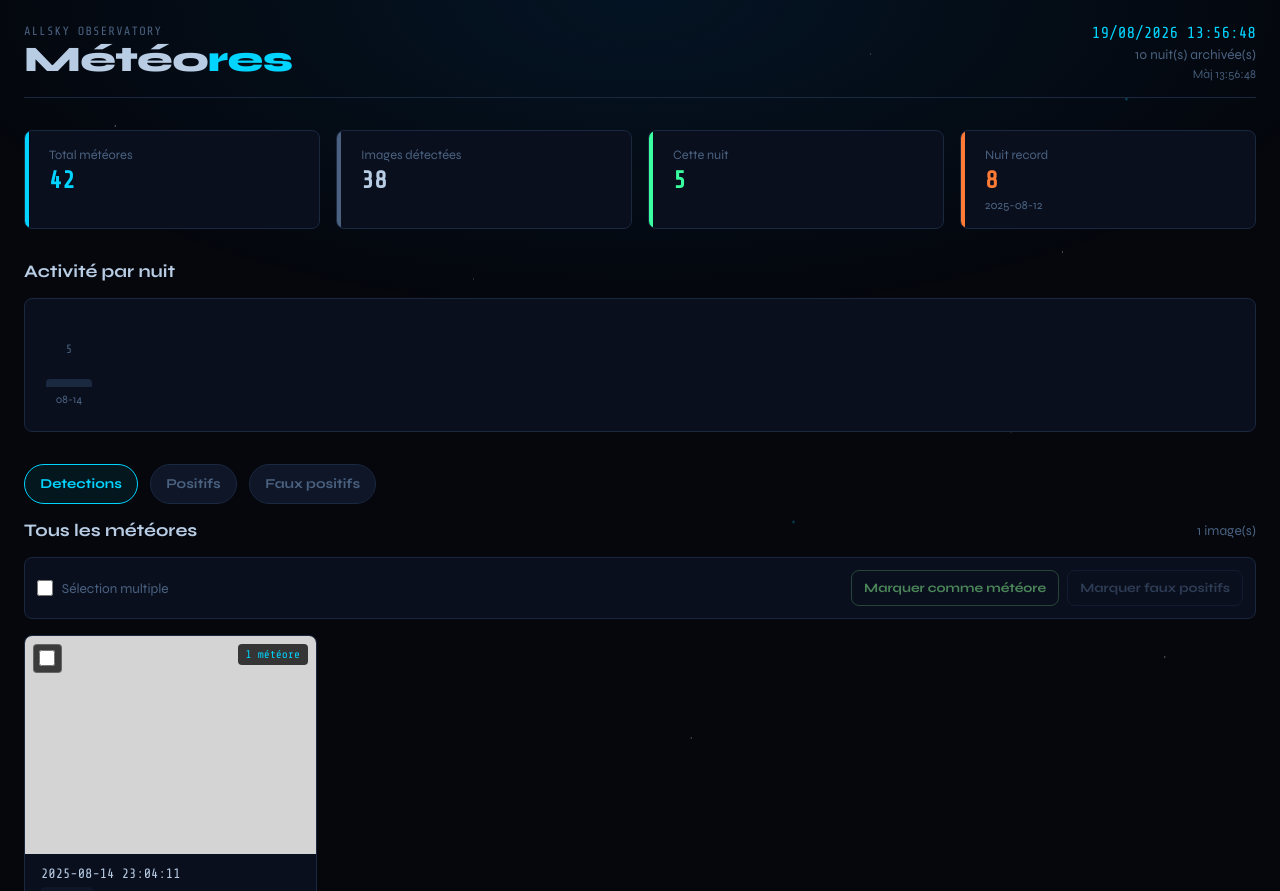
it: Dashboard › filters detections when a night bar is clicked
Click the button titled "2025-08-14 — 5 météore(s)": (69, 365) [41,315,97,415]
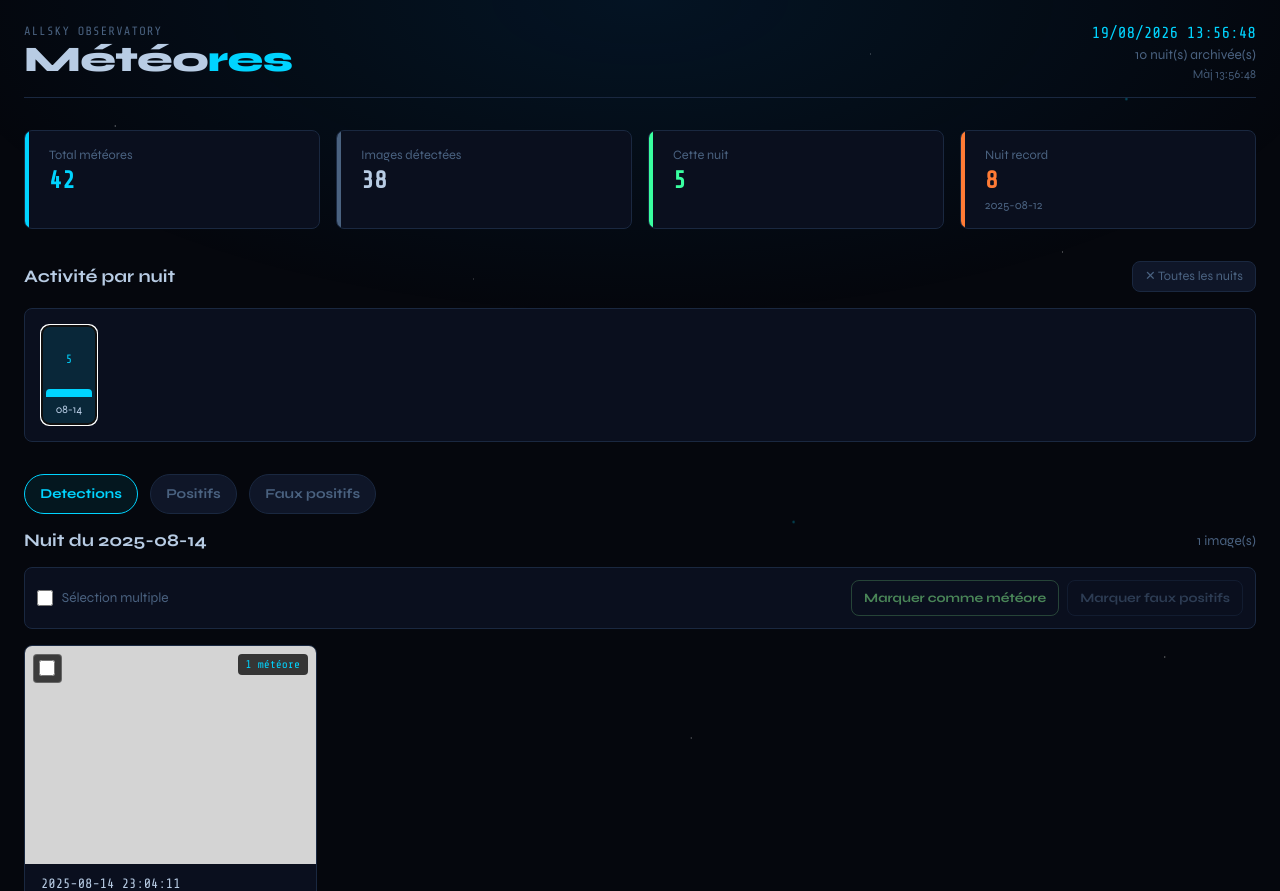
Now the heading "Nuit du 2025-08-14" is shown, box [24,530,207,551]
Now the button "✕ Toutes les nuits" is shown, box [1132,261,1256,292]
